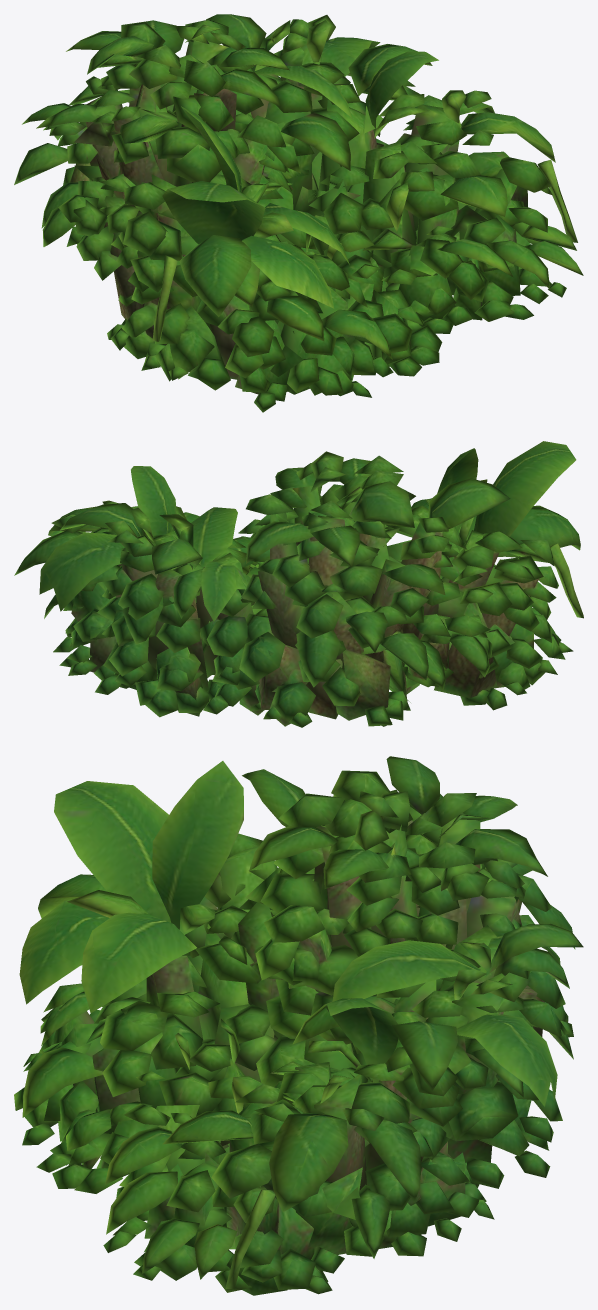
The model's file is thicket.glb.
3 views of the same model, one above another, from view 1: azimuth 30°, elevation 25°; view 2: azimuth 150°, elevation 25°; view 3: azimuth 270°, elevation 25° (orthographic). The views are drawn at different scales.
Parts seen in each view (by area): view 1: thicket; view 2: thicket; view 3: thicket.
Boxes of the visible parts, box(x1,y1,x2,y2) form: thicket: box(14, 14, 583, 412); thicket: box(14, 441, 583, 727); thicket: box(14, 756, 583, 1295).
Size of the model in its own units: 1 by 0.5566 by 0.8466.
Materials: 1 (1 with a texture image).
